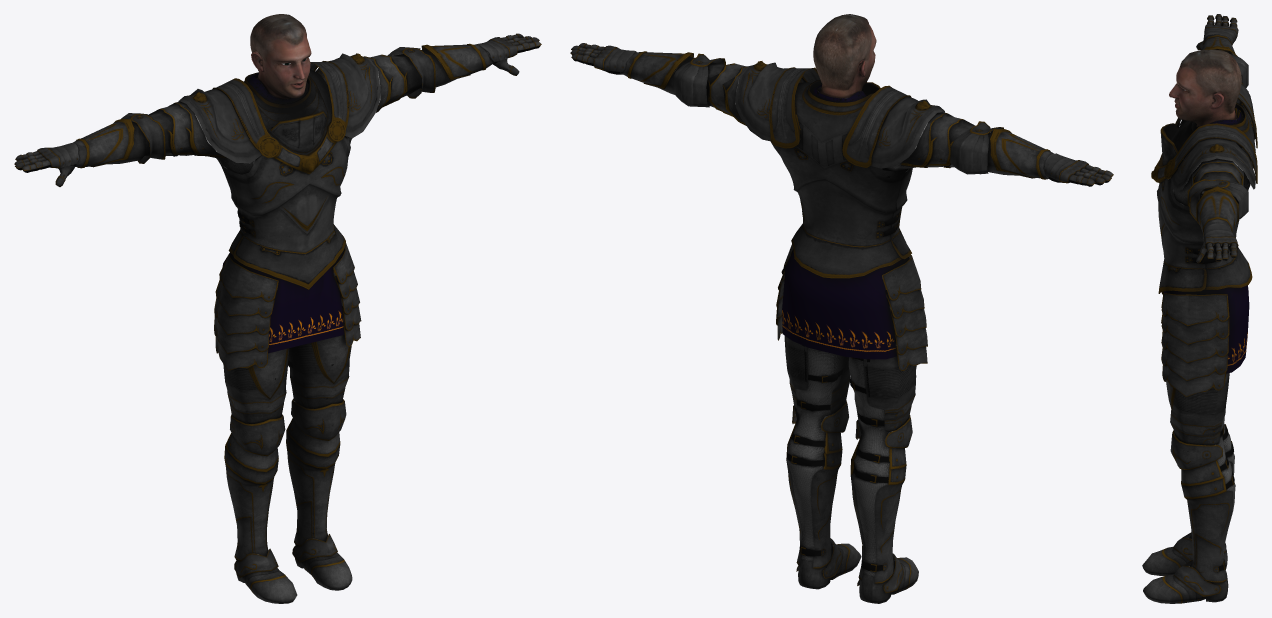
The picture shows the model from 3 angles, left to right: view 1: azimuth 30°, elevation 25°; view 2: azimuth 150°, elevation 25°; view 3: azimuth 270°, elevation 25°; orthographic projection. The views are drawn at different scales.
Parts seen in each view (by area): view 1: Paladin_J_Nordstrom_Sword; view 2: Paladin_J_Nordstrom_Sword; view 3: Paladin_J_Nordstrom_Sword.
Boxes of the visible parts, x1=… form: Paladin_J_Nordstrom_Sword: x1=14, y1=14, x2=541, y2=603; Paladin_J_Nordstrom_Sword: x1=570, y1=14, x2=1113, y2=603; Paladin_J_Nordstrom_Sword: x1=1142, y1=14, x2=1257, y2=603.
Bounding box in the file's own units: 170 × 172 × 34.05.
